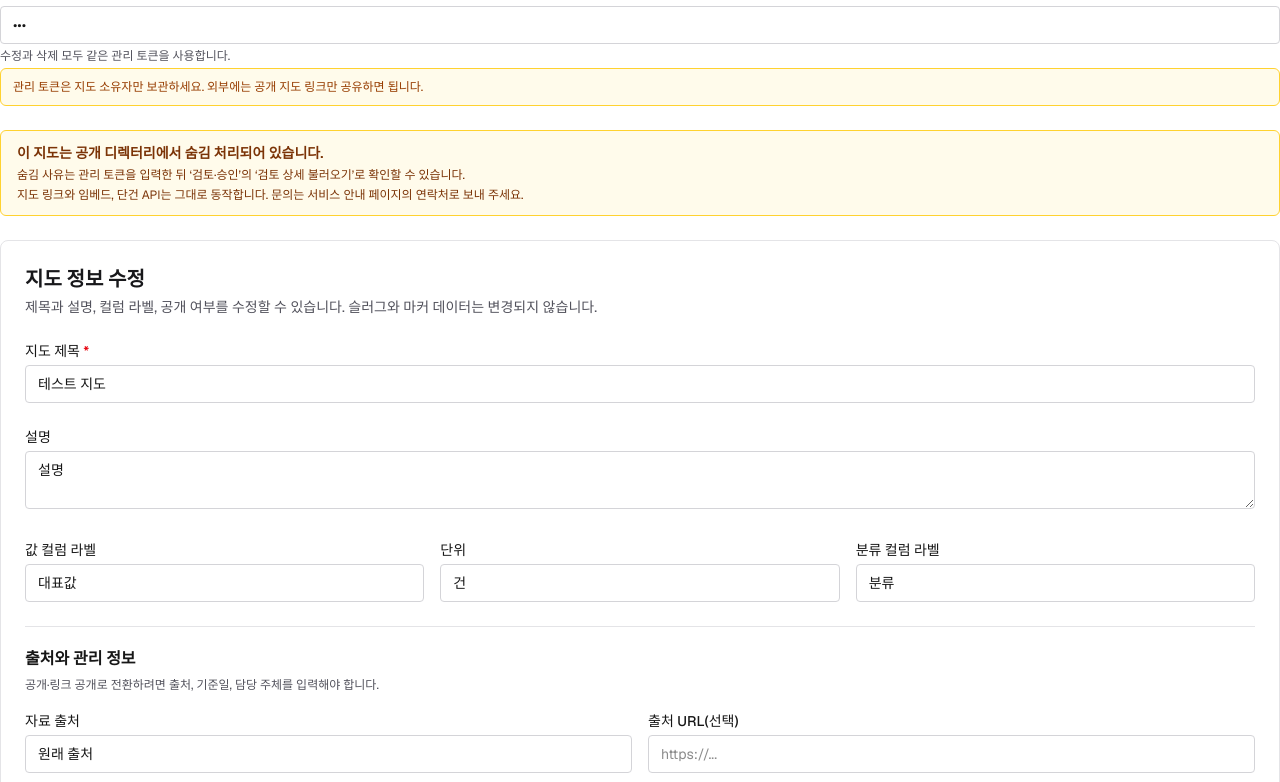
Test: ManageForm review integration › renders the directory hidden notice without a reason until details are loaded
Check: the text "출처 URL 오류" is not shown
Step 1. Type "tok" into the password field with id "admin_token" → (640, 25), box left=0, top=6, right=1279, bottom=44
(page scrolled)
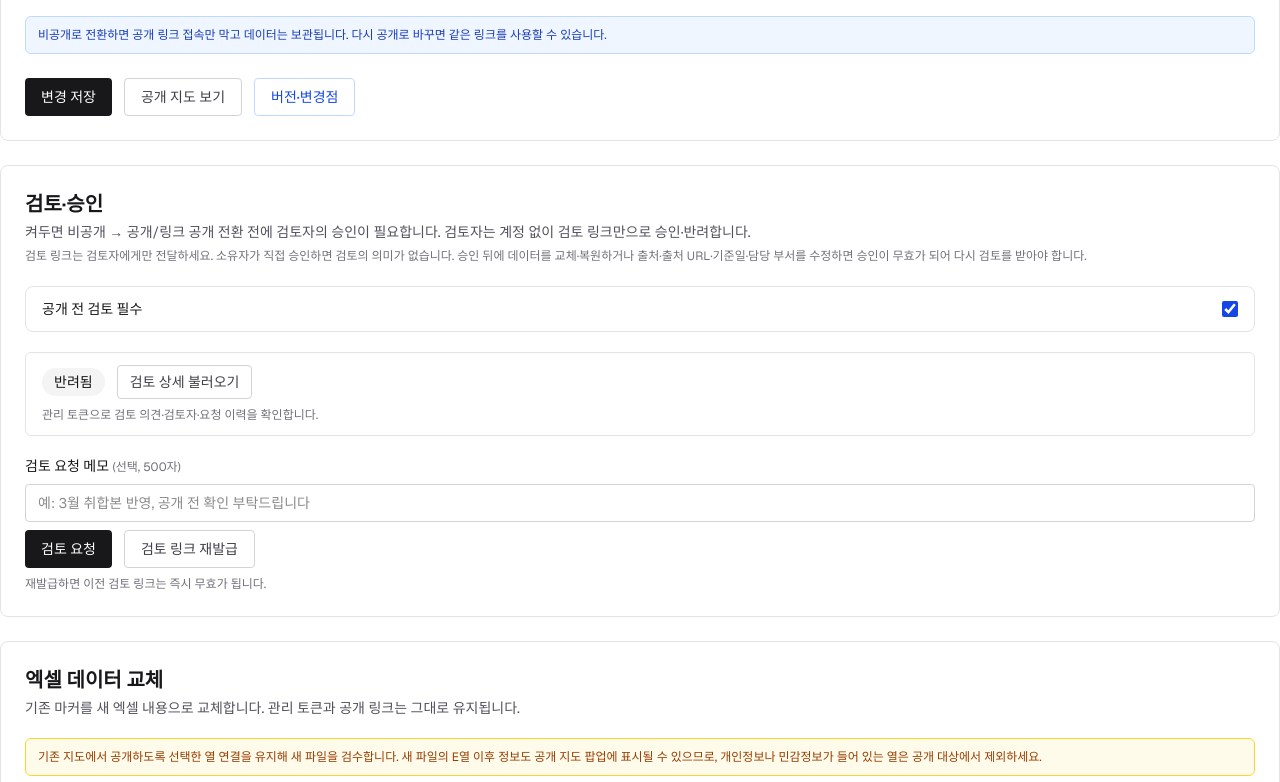
Step 2. Click the button "검토 상세 불러오기" → (184, 382), box left=117, top=365, right=252, bottom=399
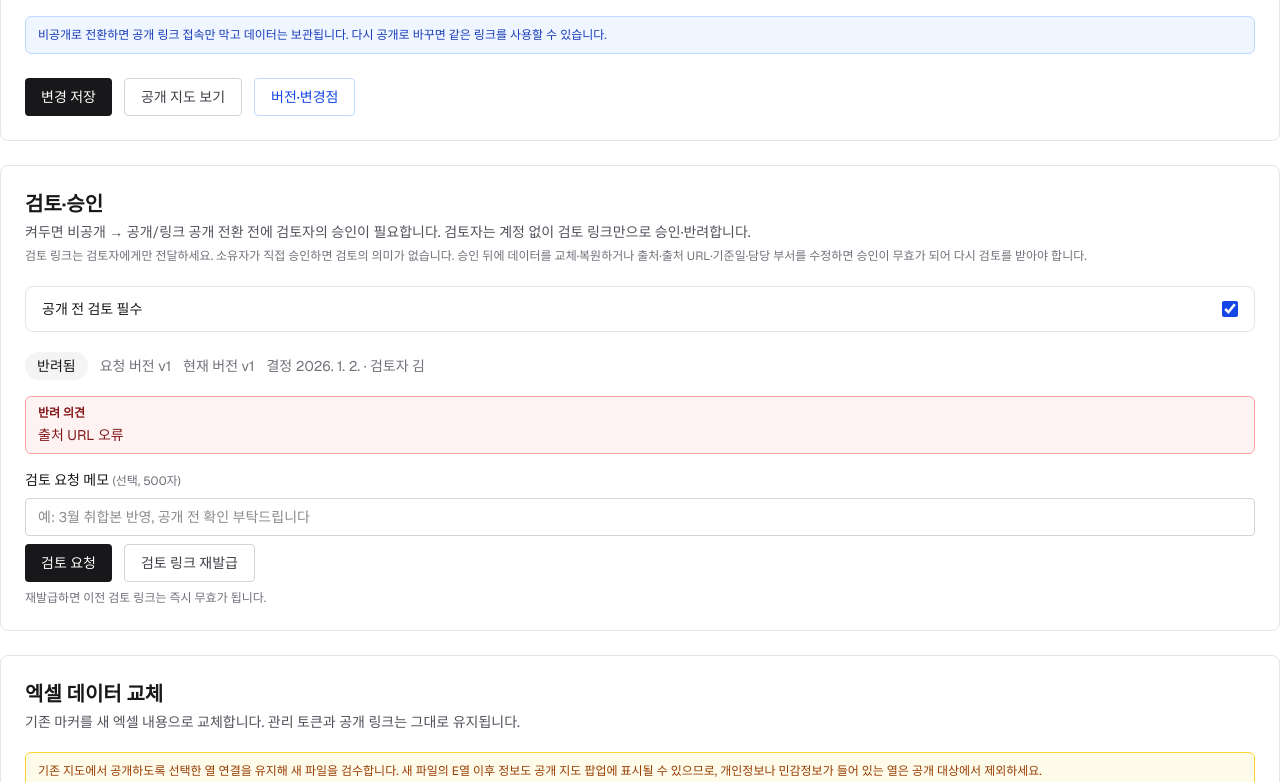
Check: the text "출처 URL 오류" is shown, box left=38, top=426, right=124, bottom=444
Check: the text "검토자 김" is shown, box left=360, top=357, right=425, bottom=375
